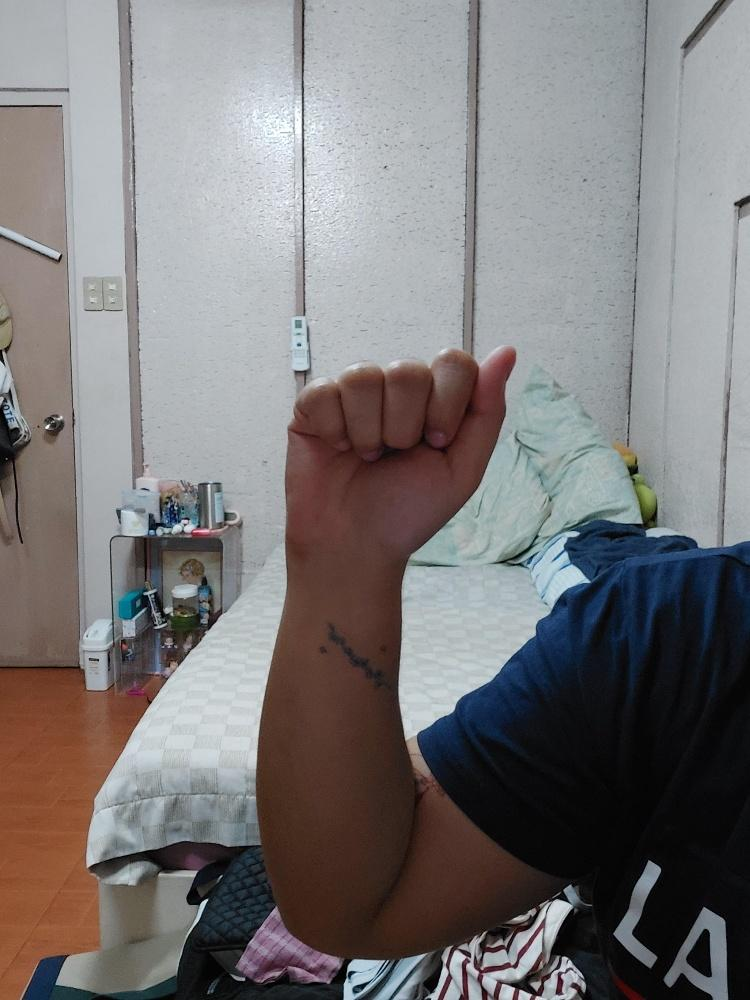a: (283, 341, 515, 555)
